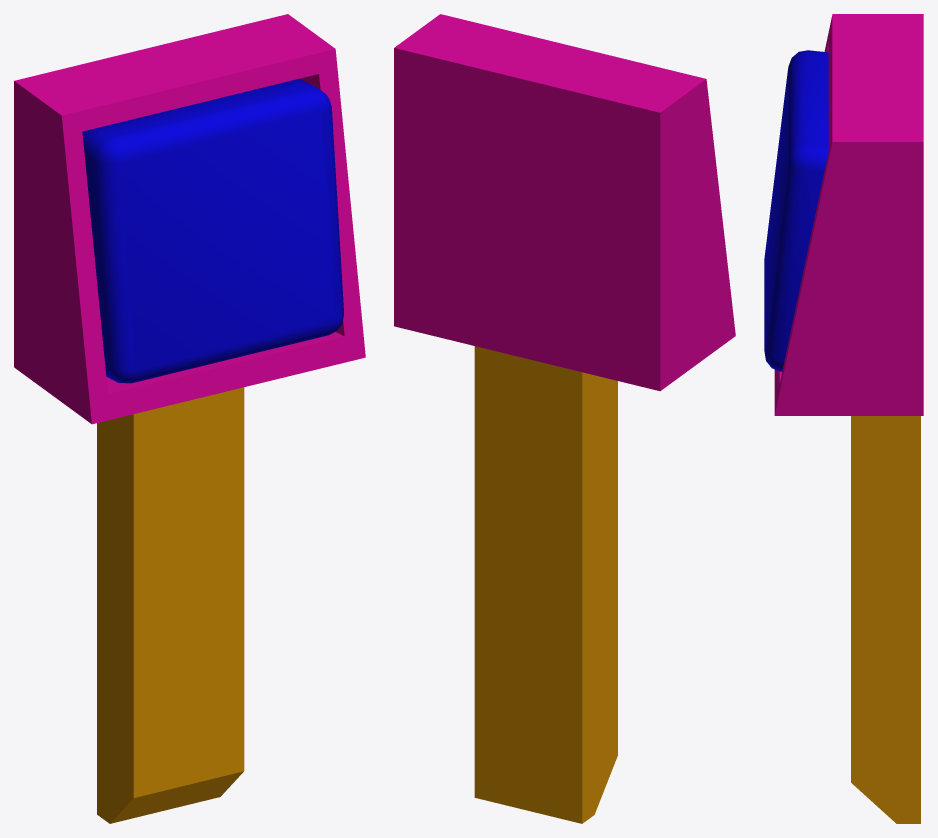
Rendered from respawn_screen.glb.
The picture shows the model from 3 angles, left to right: view 1: azimuth 30°, elevation 25°; view 2: azimuth 150°, elevation 25°; view 3: azimuth 270°, elevation 25°; orthographic projection. The views are drawn at different scales.
Parts seen in each view (by area): view 1: Cube.003, Cube.001, Cube; view 2: Cube, Cube.001; view 3: Cube, Cube.001, Cube.003.
Part boxes in pixels (<box>): Cube.003: <box>82,78,343,383</box>; Cube.001: <box>97,387,244,823</box>; Cube: <box>14,14,365,424</box>; Cube: <box>394,14,735,391</box>; Cube.001: <box>474,346,617,823</box>; Cube: <box>774,14,923,415</box>; Cube.001: <box>851,416,920,823</box>; Cube.003: <box>764,50,828,371</box>.
Size of the model in its own units: 0.479 by 1.26 by 0.252.
